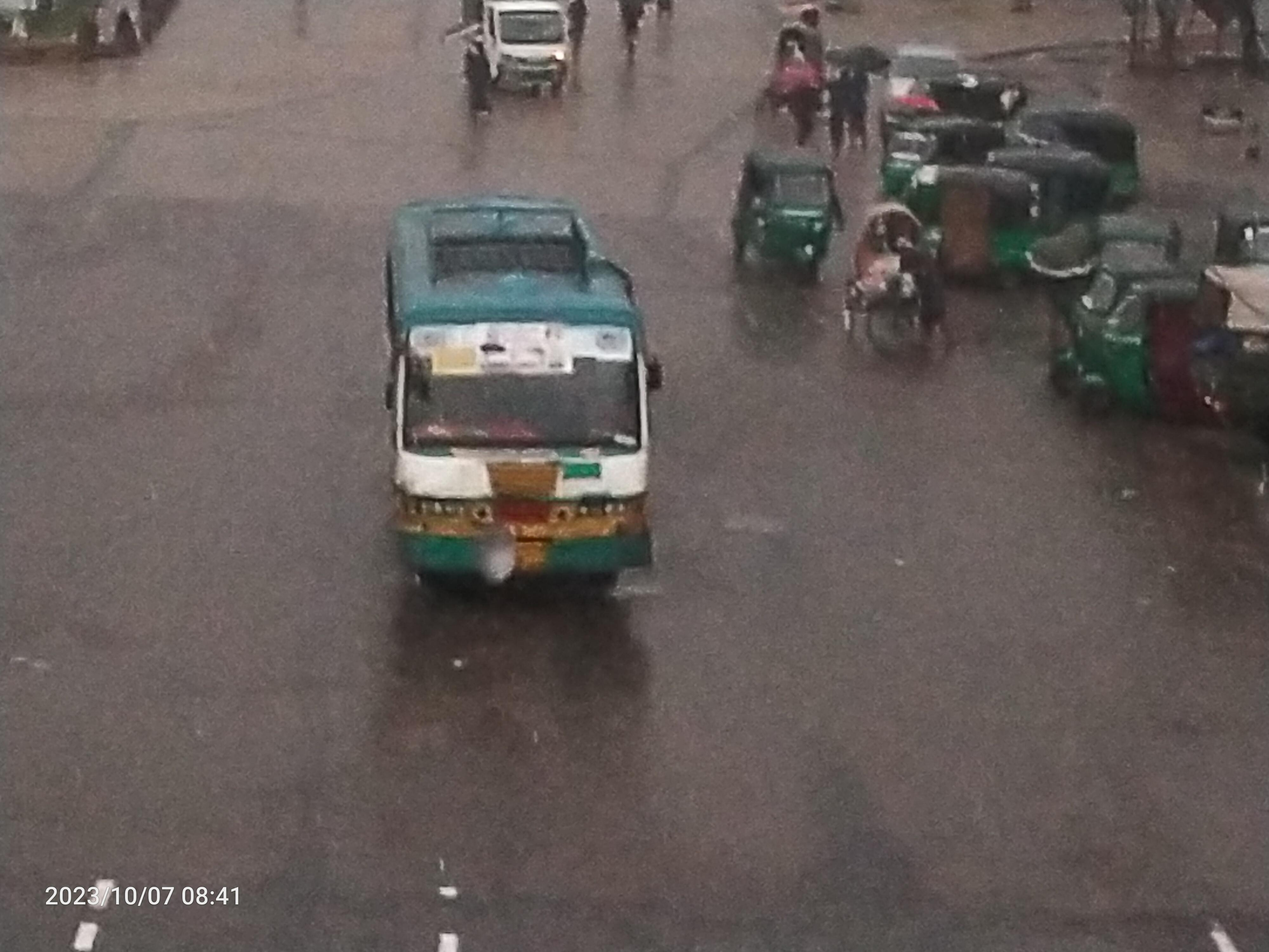Bus: (353, 149, 698, 630)
Car: (828, 198, 965, 385), (450, 0, 588, 121)
